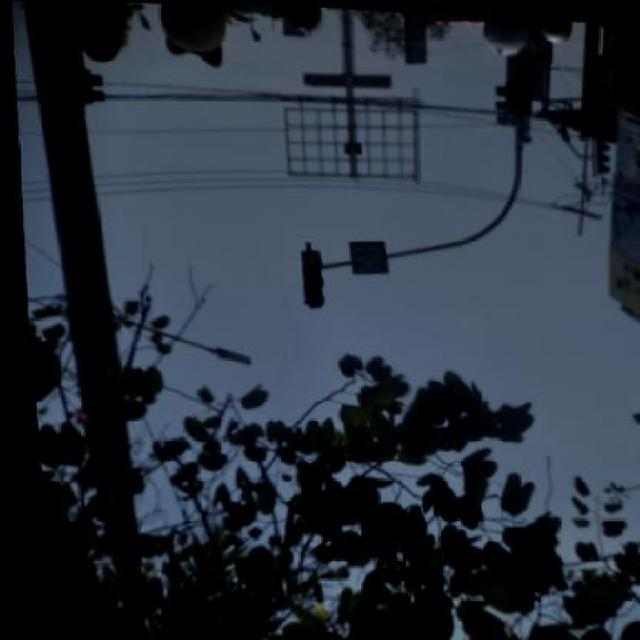green_light: (506, 53, 537, 115), (294, 248, 323, 307)
